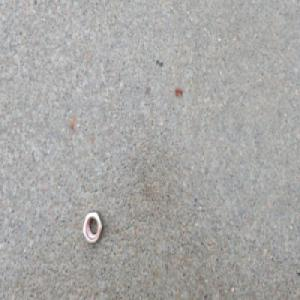Nut: (81, 209, 103, 246)
